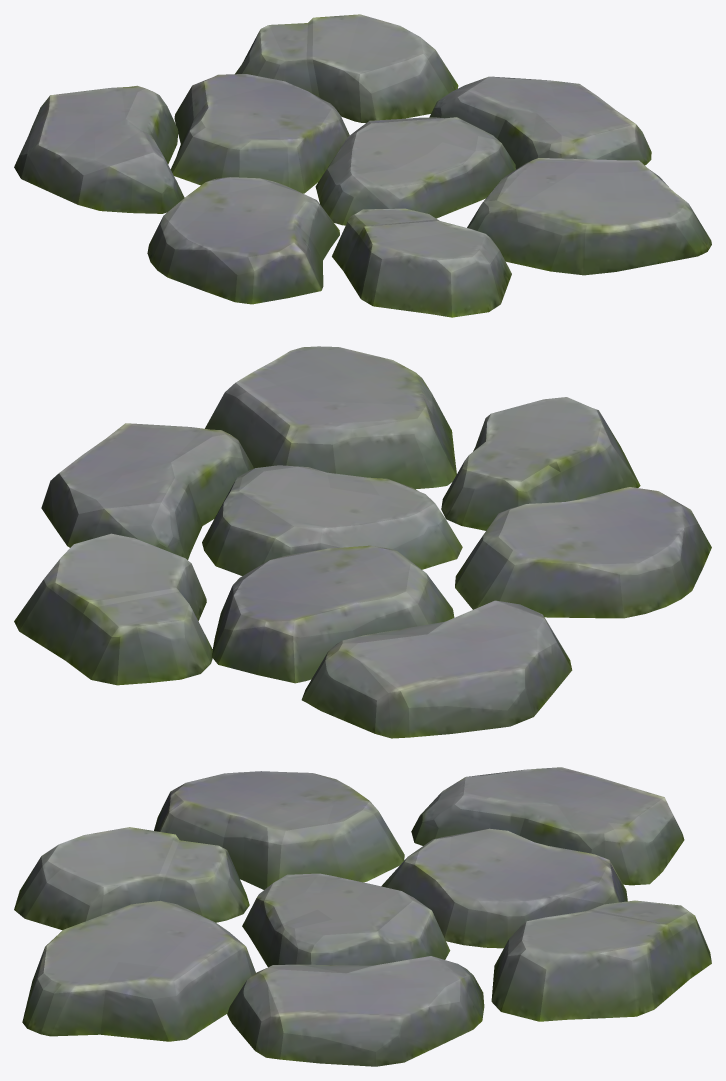
Rendered from path-stone-3.glb.
The picture shows the model from 3 angles, top to bottom: view 1: azimuth 30°, elevation 25°; view 2: azimuth 150°, elevation 25°; view 3: azimuth 270°, elevation 25°; orthographic projection. The views are drawn at different scales.
Parts seen in each view (by area): view 1: Cube_017_Retopology_014; view 2: Cube_017_Retopology_014; view 3: Cube_017_Retopology_014.
Part boxes in pixels (x1,y1,x2,y2): Cube_017_Retopology_014: [14, 14, 711, 317]; Cube_017_Retopology_014: [14, 346, 711, 738]; Cube_017_Retopology_014: [14, 767, 711, 1066].
Size of the model in its own units: 1.18 by 0.1093 by 1.29.
1 material, 1 textured.
